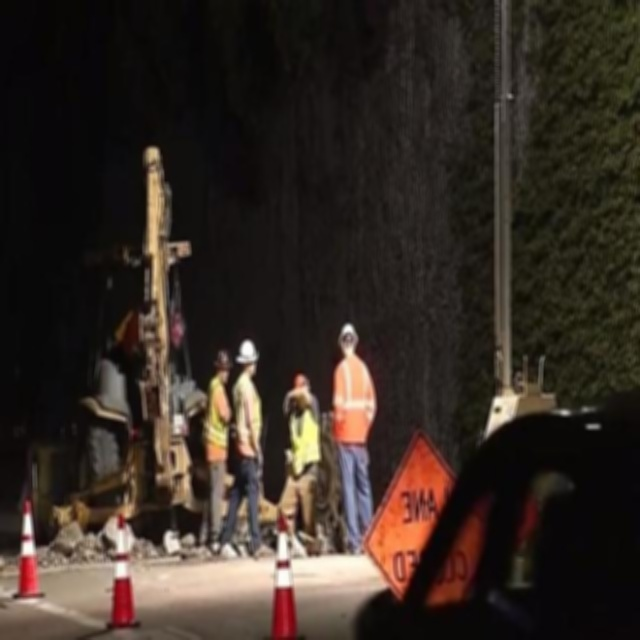Con_Casco: (236, 339, 260, 371)
Con_Chaleco: (336, 357, 369, 443), (234, 375, 261, 458), (291, 397, 317, 471), (204, 380, 230, 453)
